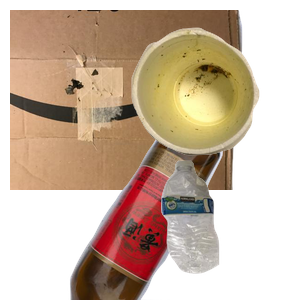cardboard: (10, 10, 245, 190)
glass: (67, 120, 282, 300)
plastic: (159, 158, 300, 300)
trash: (129, 25, 300, 173)
